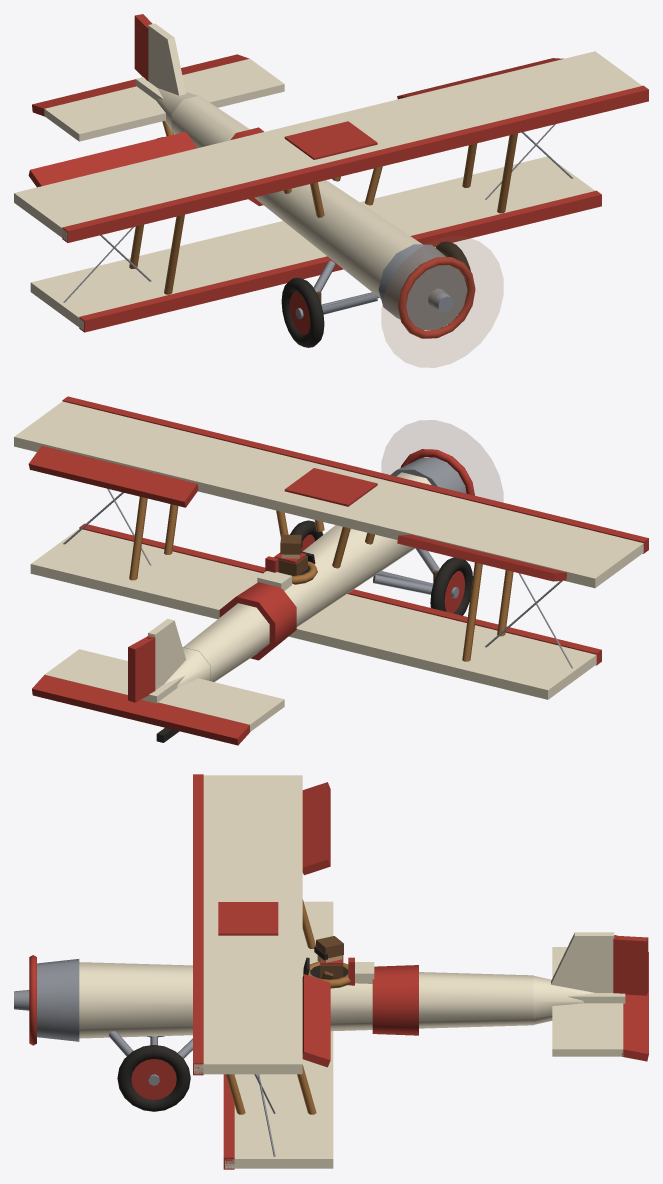
The model's file is biplane-1920.glb.
3 views of the same model, one above another, from view 1: azimuth 30°, elevation 25°; view 2: azimuth 150°, elevation 25°; view 3: azimuth 270°, elevation 25° (orthographic).
Parts seen in each view (by area): view 1: wing_upper, wing_lower, prop_blur_disc, wing_upper_leading_edge, fuselage, wing_lower_leading_edge, horizontal_stabilizer, engine_cowl, aileron_left, wing_upper_marking, vertical_fin, cowl_ring (+9 smaller); view 2: wing_upper, wing_lower, fuselage, horizontal_stabilizer, elevator, aileron_right, prop_blur_disc, wing_upper_leading_edge, wing_lower_leading_edge, fuselage_band, aileron_left, wing_upper_marking (+11 smaller); view 3: wing_upper, fuselage, wing_lower, horizontal_stabilizer, engine_cowl, wing_upper_leading_edge, fuselage_band, vertical_fin, aileron_left, aileron_right, tire, wing_upper_marking (+6 smaller).
Part boxes in pixels (<box>): wing_upper: <box>14,51,641,240</box>; wing_lower: <box>30,156,594,330</box>; prop_blur_disc: <box>382,237,502,367</box>; wing_upper_leading_edge: <box>62,85,648,242</box>; fuselage: <box>171,95,422,298</box>; wing_lower_leading_edge: <box>79,190,601,332</box>; horizontal_stabilizer: <box>44,58,284,141</box>; engine_cowl: <box>378,244,467,330</box>; aileron_left: <box>28,132,197,187</box>; wing_upper_marking: <box>284,121,377,159</box>; vertical_fin: <box>148,23,185,95</box>; cowl_ring: <box>398,257,475,338</box>; wing_upper: <box>14,401,643,588</box>; wing_lower: <box>30,528,596,699</box>; fuselage: <box>182,472,431,681</box>; horizontal_stabilizer: <box>44,649,284,731</box>; elevator: <box>32,675,249,745</box>; aileron_right: <box>28,446,198,507</box>; prop_blur_disc: <box>382,420,502,501</box>; wing_upper_leading_edge: <box>62,396,648,553</box>; wing_lower_leading_edge: <box>79,523,601,665</box>; fuselage_band: <box>219,582,296,660</box>; aileron_left: <box>397,534,566,581</box>; wing_upper_marking: <box>284,468,377,506</box>; wing_upper: <box>194,775,302,1074</box>; fuselage: <box>79,962,533,1038</box>; wing_lower: <box>225,901,333,1168</box>; horizontal_stabilizer: <box>552,947,623,1056</box>; engine_cowl: <box>37,959,79,1041</box>; wing_upper_leading_edge: <box>193,774,203,1075</box>; fuselage_band: <box>372,965,418,1035</box>; vertical_fin: <box>551,932,614,992</box>; aileron_left: <box>302,782,330,875</box>; aileron_right: <box>302,974,330,1067</box>; tire: <box>117,1045,190,1111</box>; wing_upper_marking: <box>218,902,278,935</box>.
Size of the model in its own units: 8.2 by 2.15 by 7.61.
